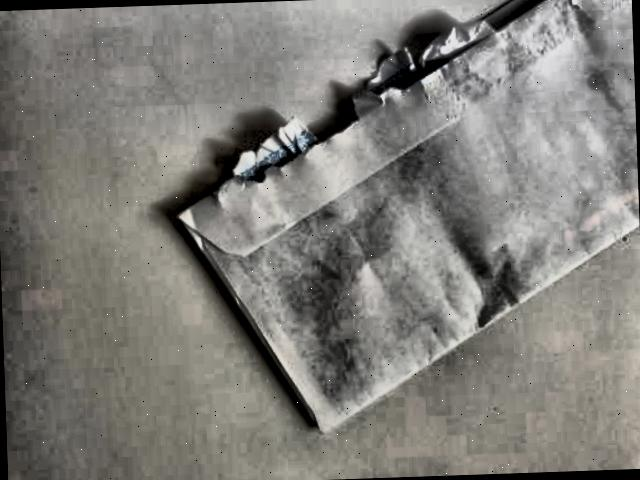Paper: (164, 0, 640, 446)
